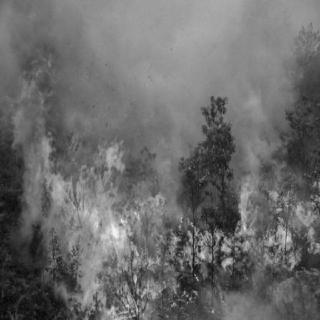Smoke: (1, 2, 262, 148)
